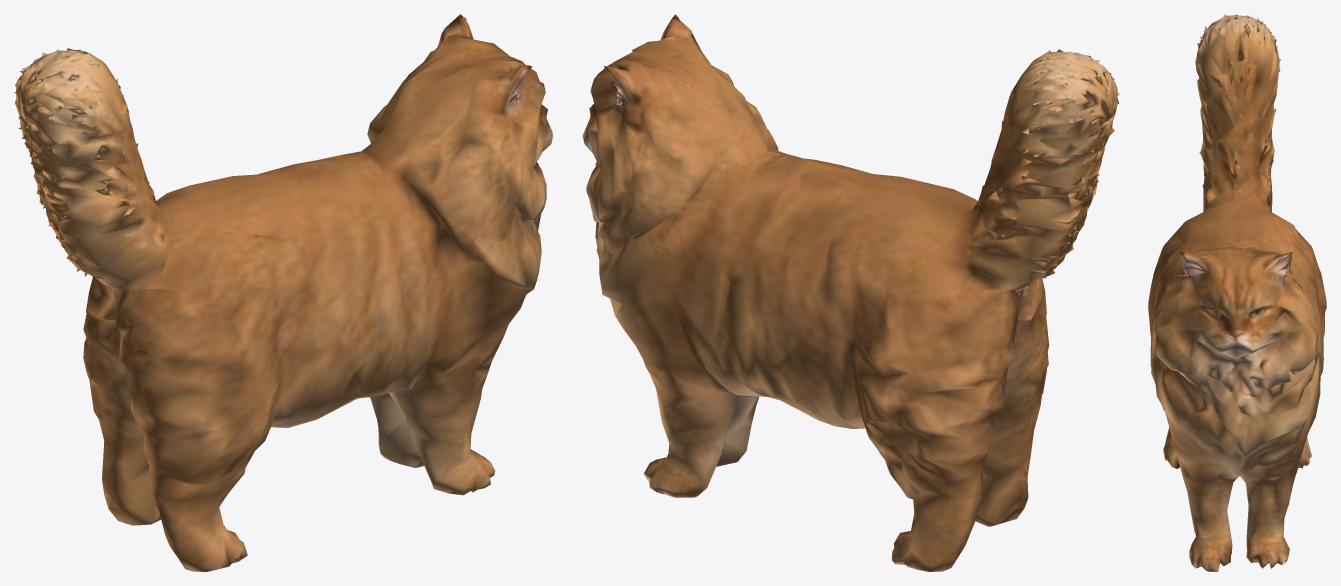
The model's file is LECHONKCAT-lo.glb.
3 renders of one model, left to right at view 1: azimuth 30°, elevation 25°; view 2: azimuth 150°, elevation 25°; view 3: azimuth 270°, elevation 25°, orthographic. The views are drawn at different scales.
Visible parts, largest first — view 1: tripo_node_59344808-d0b5-47fb-93b3-78a2786b65c3; view 2: tripo_node_59344808-d0b5-47fb-93b3-78a2786b65c3; view 3: tripo_node_59344808-d0b5-47fb-93b3-78a2786b65c3.
Part boxes in pixels (x1=…): tripo_node_59344808-d0b5-47fb-93b3-78a2786b65c3: x1=14, y1=14, x2=553, y2=571; tripo_node_59344808-d0b5-47fb-93b3-78a2786b65c3: x1=582, y1=14, x2=1119, y2=571; tripo_node_59344808-d0b5-47fb-93b3-78a2786b65c3: x1=1148, y1=14, x2=1326, y2=571.
Bounding box in the file's own units: 1.07 × 0.9984 × 0.4003.
Materials: 1 (1 with a texture image).
